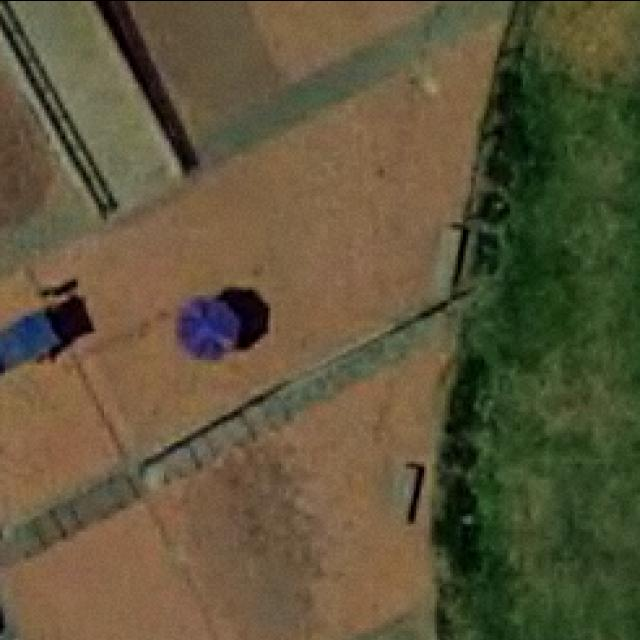vendedor_ambulante: (175, 290, 248, 364)
